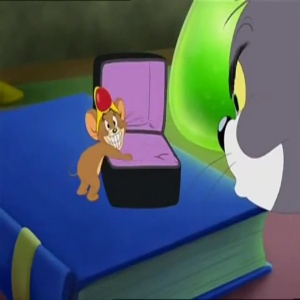Jerry: (81, 87, 135, 149)
Tom: (217, 1, 299, 224)
